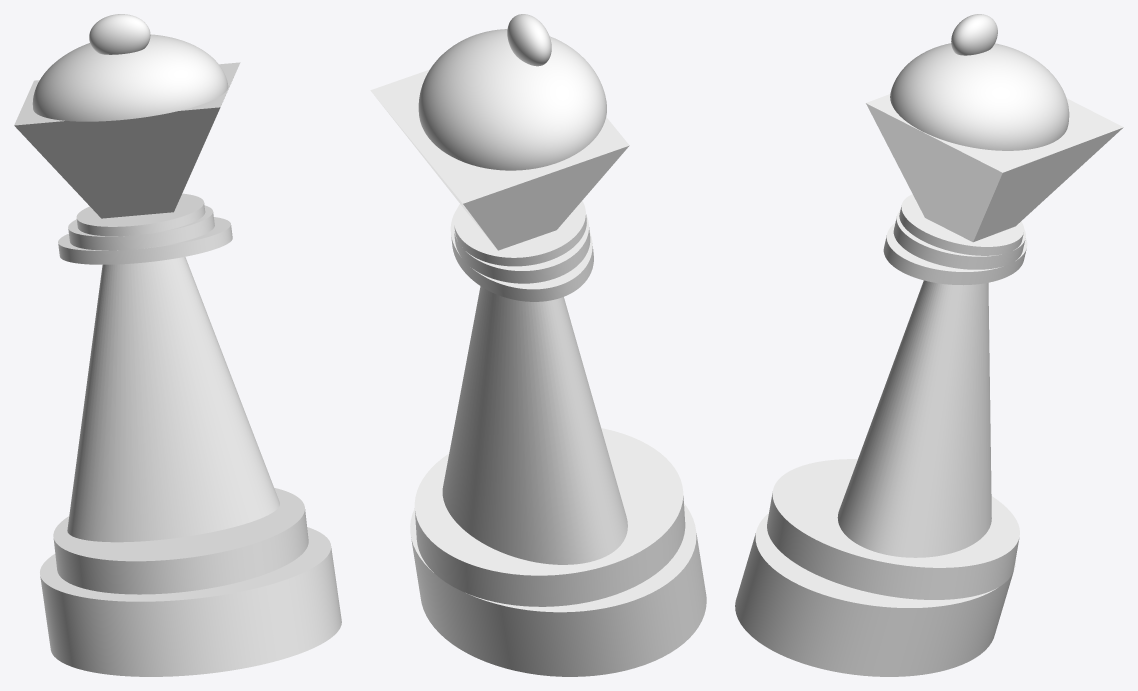
3 views of the same model, side by side, from view 1: azimuth 30°, elevation 25°; view 2: azimuth 150°, elevation 25°; view 3: azimuth 270°, elevation 25° (orthographic). The views are drawn at different scales.
Parts seen in each view (by area): view 1: mesh_id462, mesh_id478, mesh_id446, mesh_id472, mesh_id486, mesh_id468, mesh_id448, mesh_id460, mesh_id488; view 2: mesh_id462, mesh_id478, mesh_id486, mesh_id472, mesh_id446, mesh_id448, mesh_id468, mesh_id460, mesh_id488; view 3: mesh_id462, mesh_id478, mesh_id472, mesh_id446, mesh_id486, mesh_id448, mesh_id468, mesh_id460, mesh_id488.
Part boxes in pixels (x1=…): mesh_id462: x1=67, y1=257, x2=279, y2=542; mesh_id478: x1=40, y1=527, x2=341, y2=676; mesh_id446: x1=14, y1=62, x2=240, y2=218; mesh_id472: x1=53, y1=488, x2=308, y2=594; mesh_id486: x1=32, y1=34, x2=228, y2=121; mesh_id468: x1=58, y1=217, x2=232, y2=264; mesh_id448: x1=76, y1=193, x2=205, y2=236; mesh_id460: x1=68, y1=205, x2=214, y2=250; mesh_id488: x1=89, y1=14, x2=150, y2=54; mesh_id462: x1=442, y1=286, x2=627, y2=564; mesh_id478: x1=410, y1=503, x2=706, y2=676; mesh_id486: x1=418, y1=29, x2=606, y2=170; mesh_id472: x1=414, y1=428, x2=685, y2=606; mesh_id446: x1=370, y1=69, x2=629, y2=250; mesh_id448: x1=454, y1=201, x2=586, y2=266; mesh_id468: x1=450, y1=211, x2=593, y2=301; mesh_id460: x1=453, y1=215, x2=590, y2=283; mesh_id488: x1=507, y1=14, x2=551, y2=66; mesh_id462: x1=837, y1=280, x2=991, y2=557; mesh_id478: x1=735, y1=513, x2=1015, y2=676; mesh_id472: x1=767, y1=459, x2=1019, y2=599; mesh_id446: x1=866, y1=94, x2=1123, y2=242; mesh_id486: x1=890, y1=43, x2=1069, y2=150; mesh_id448: x1=899, y1=194, x2=1024, y2=255; mesh_id468: x1=883, y1=223, x2=1027, y2=285; mesh_id460: x1=893, y1=210, x2=1025, y2=269; mesh_id488: x1=951, y1=14, x2=997, y2=55.
Size of the model in its own units: 0.0577 by 0.1336 by 0.0774.
9 materials, 9 textured.
